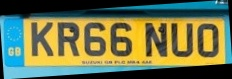character: (30, 20, 53, 57), (144, 21, 167, 58), (57, 21, 80, 56), (170, 22, 193, 56), (84, 21, 106, 56), (197, 23, 219, 58), (110, 22, 132, 56)
